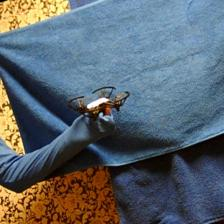drone: (68, 83, 129, 119)
